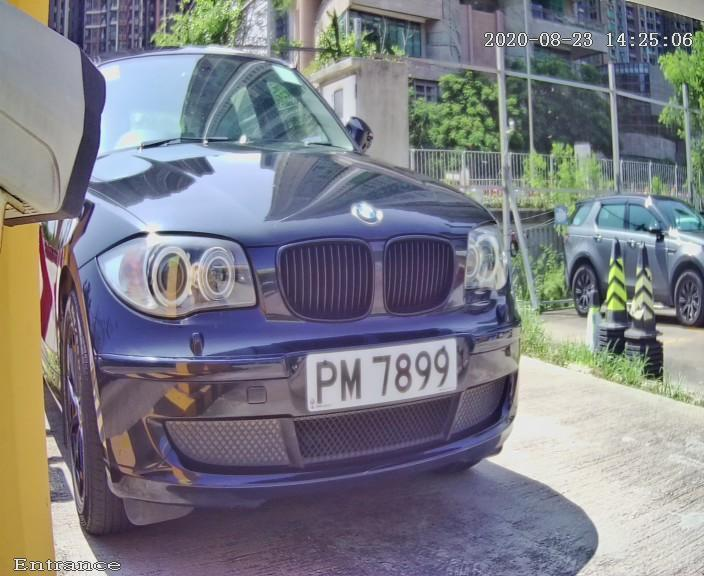Car: (1, 13, 563, 571)
License Plate: (271, 305, 473, 431)
